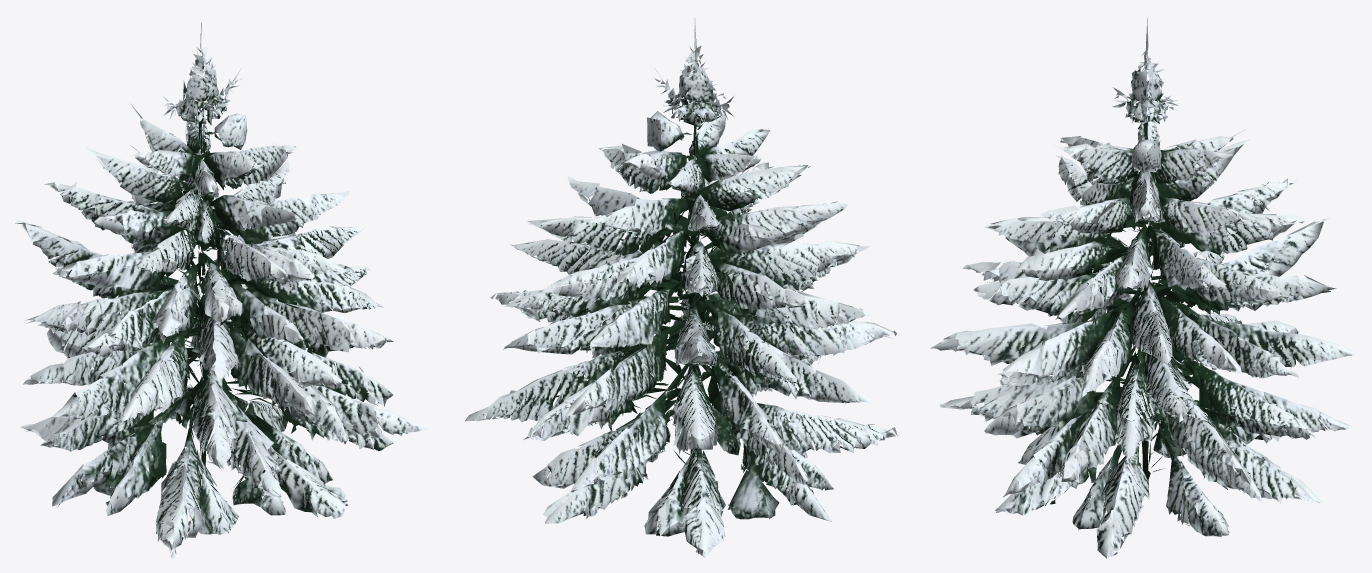
Rendered from spruce.glb.
3 renders of one model, left to right at view 1: azimuth 30°, elevation 25°; view 2: azimuth 150°, elevation 25°; view 3: azimuth 270°, elevation 25°, orthographic.
Visible parts, largest first — view 1: spruce_near, spruce_mid; view 2: spruce_near, spruce_mid; view 3: spruce_near, spruce_mid.
Part boxes in pixels (x1=…): spruce_near: x1=16, y1=23, x2=429, y2=558; spruce_mid: x1=15, y1=46, x2=426, y2=548; spruce_near: x1=465, y1=18, x2=900, y2=557; spruce_mid: x1=490, y1=50, x2=897, y2=554; spruce_near: x1=930, y1=17, x2=1357, y2=558; spruce_mid: x1=932, y1=50, x2=1349, y2=556.
Bounding box in the file's own units: 0.7749 × 0.9966 × 0.819.
Materials: 1 (1 with a texture image).
